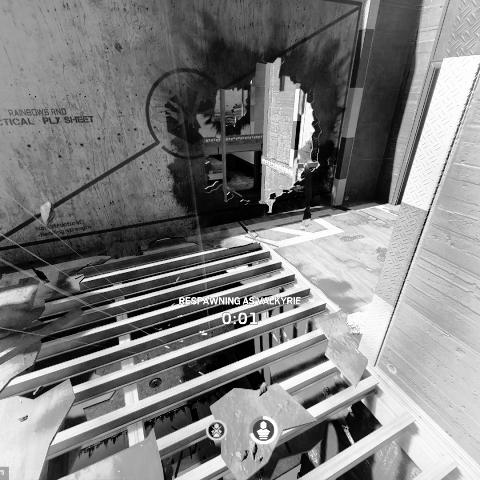Character: (203, 354, 240, 395)
Head: (217, 354, 228, 365)
